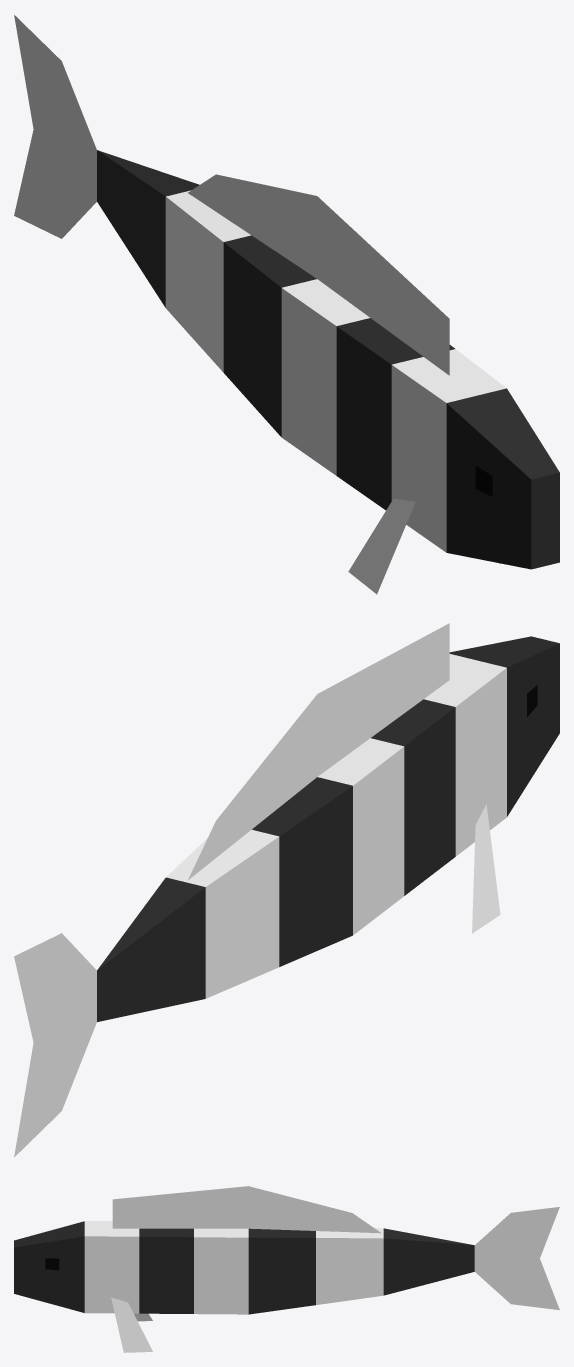
The model's file is 25minnow.fbx.
The picture shows the model from 3 angles, top to bottom: view 1: azimuth 30°, elevation 25°; view 2: azimuth 150°, elevation 25°; view 3: azimuth 270°, elevation 25°; orthographic projection. The views are drawn at different scales.
Parts seen in each view (by area): view 1: Tropical Fish 25; view 2: Tropical Fish 25; view 3: Tropical Fish 25.
Part boxes in pixels (<box>): Tropical Fish 25: <box>14,15,559,594</box>; Tropical Fish 25: <box>14,623,559,1157</box>; Tropical Fish 25: <box>14,1186,559,1352</box>.
Bounding box in the file's own units: 20.75 × 47.21 × 154.
